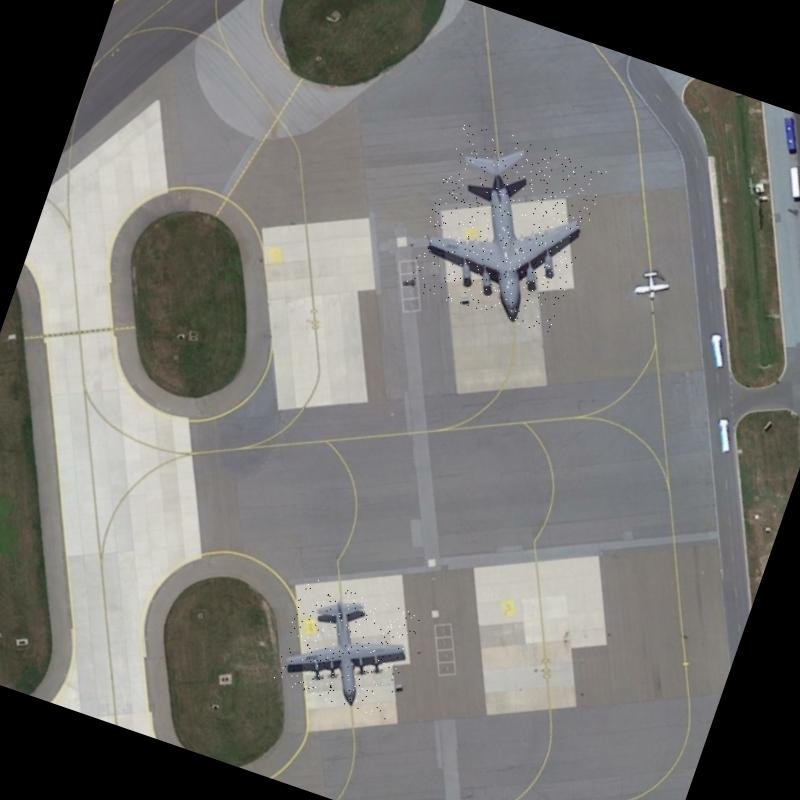A2: (270, 576, 422, 721)
A3: (405, 118, 608, 337)
